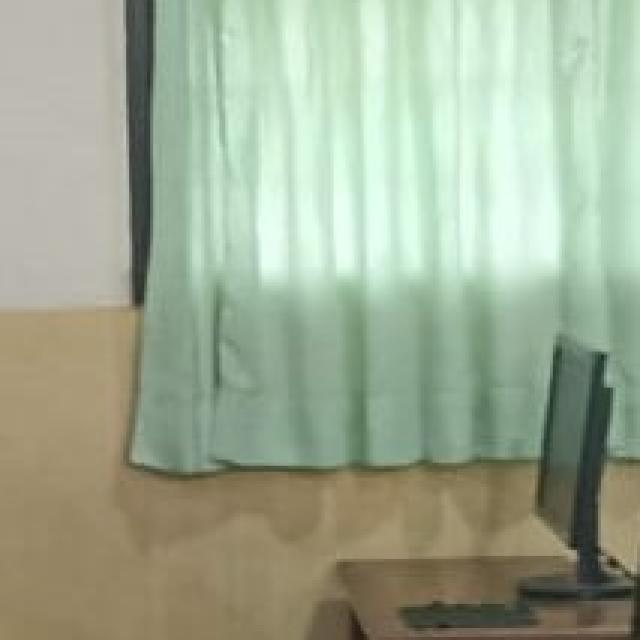offscreen: (538, 335, 604, 544)
